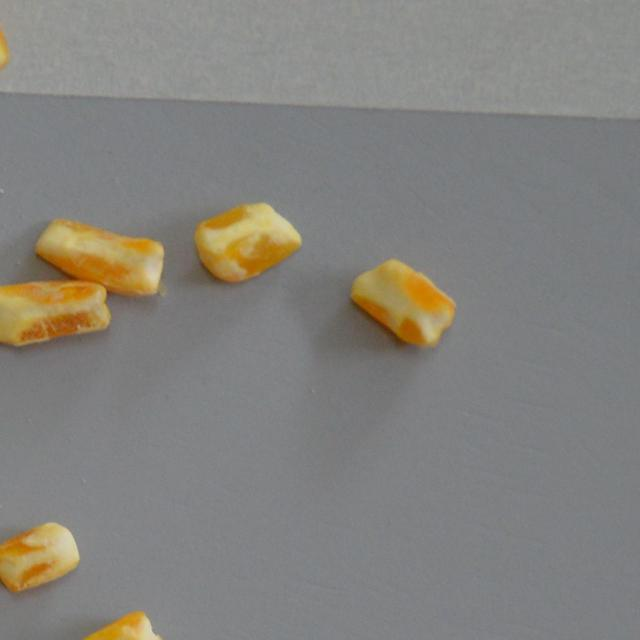dañado: (30, 212, 174, 304), (346, 250, 460, 350), (191, 198, 303, 288), (0, 274, 115, 350), (0, 517, 84, 596), (0, 0, 14, 80)
pelicula: (76, 608, 166, 640)
